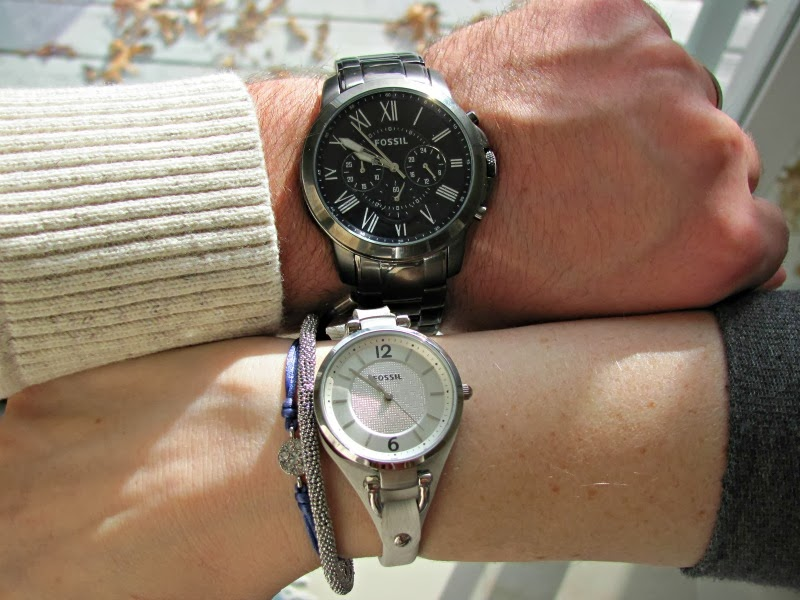clock: (294, 77, 497, 262), (310, 326, 467, 468)
